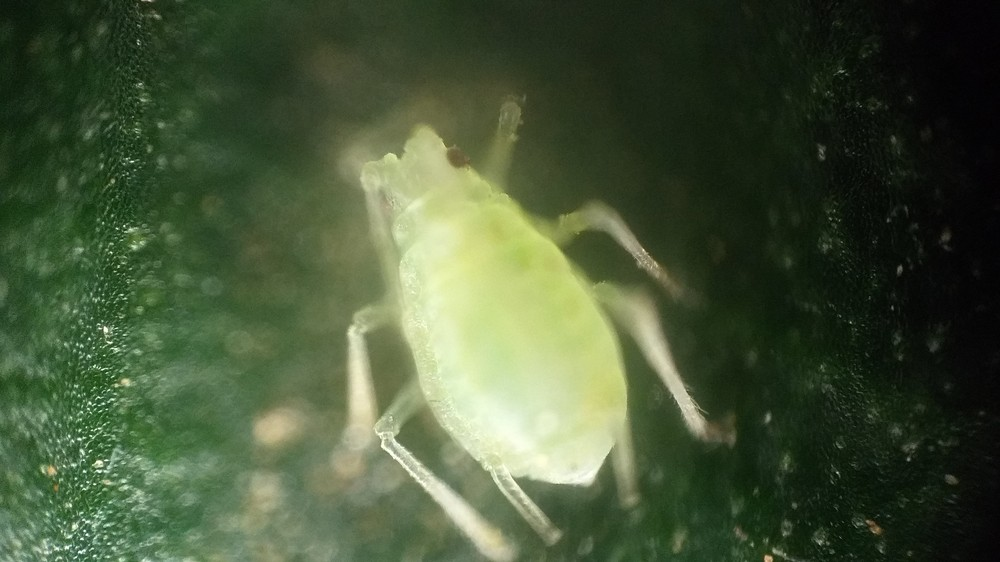Pulgon: (283, 97, 739, 556)
